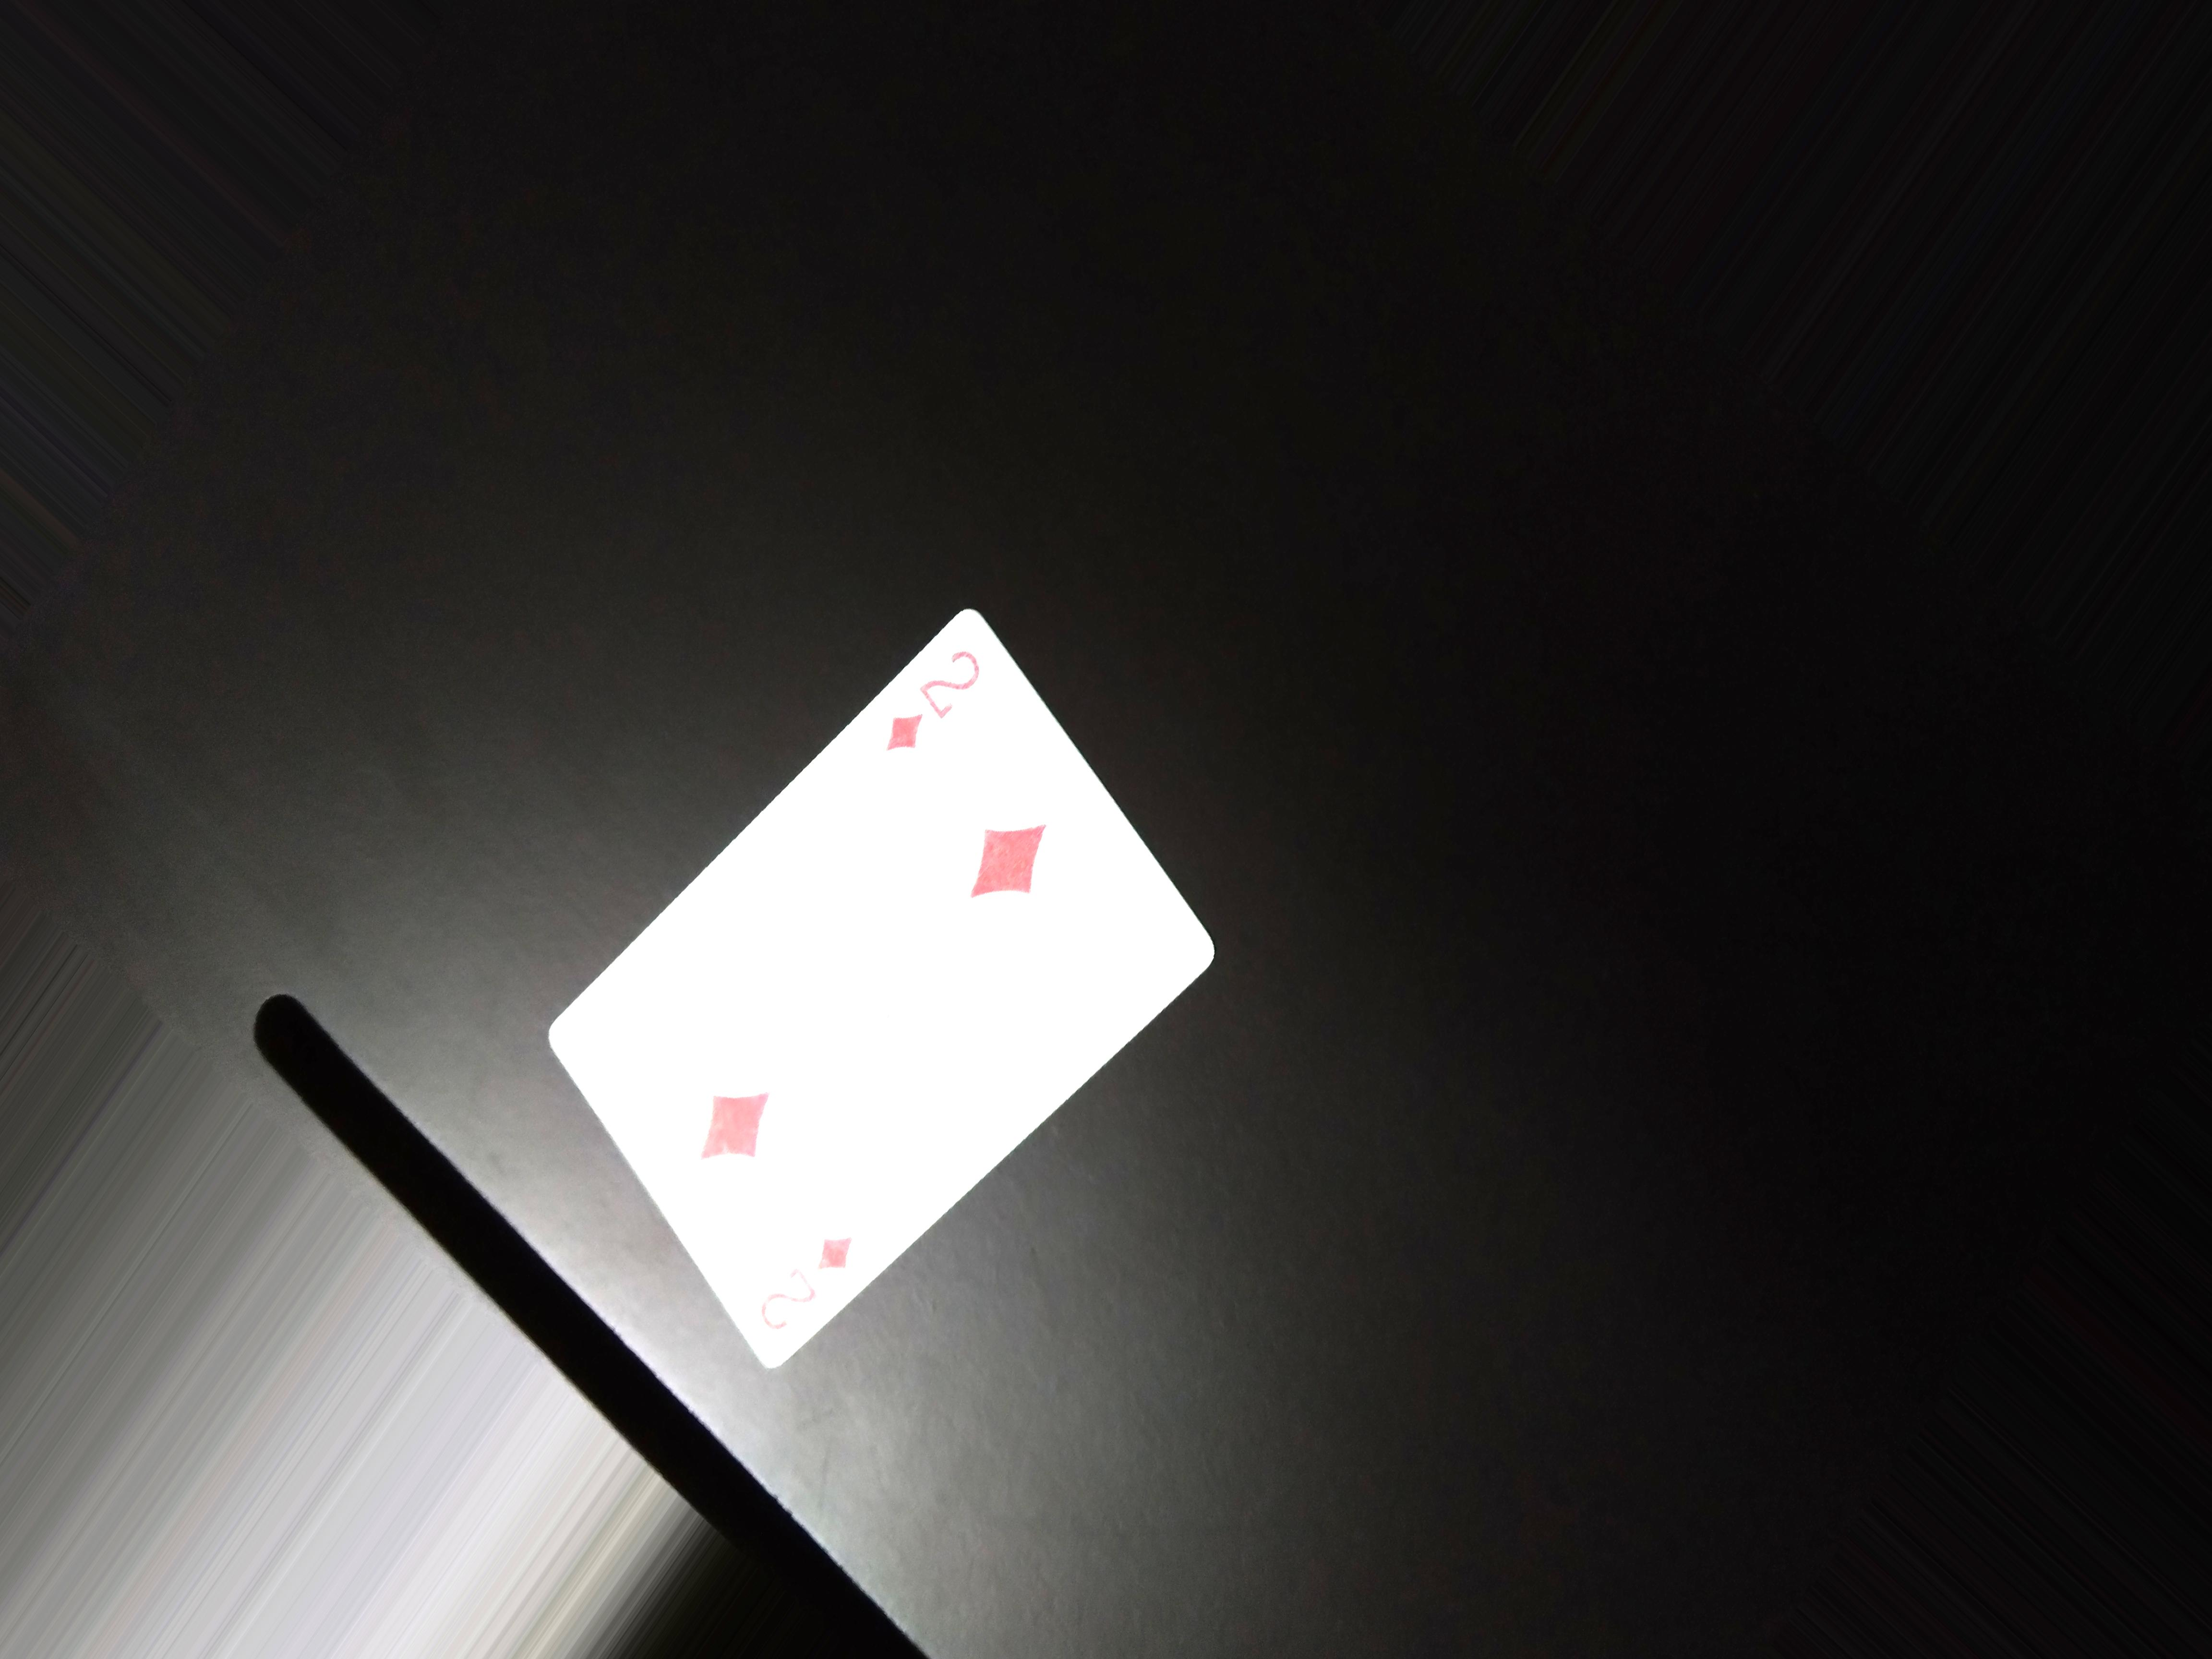2D: (864, 643, 984, 772)
